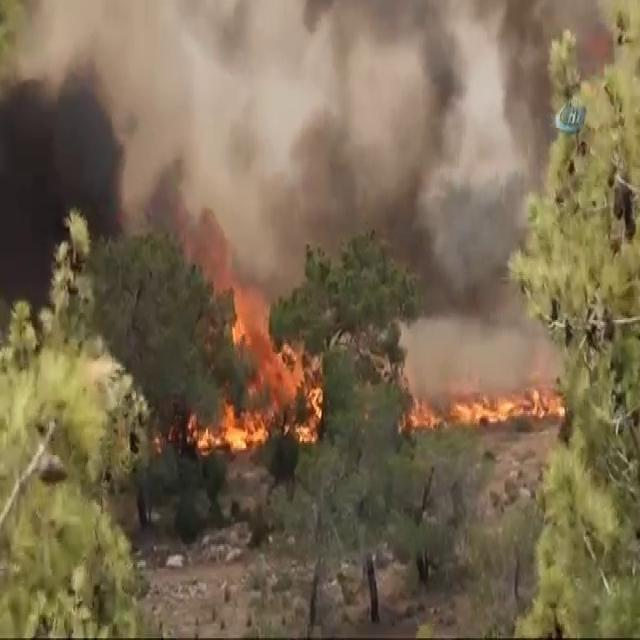Fire: (182, 243, 316, 397), (404, 388, 566, 433), (261, 370, 329, 456), (188, 404, 267, 454)
Smoke: (74, 24, 528, 222), (478, 0, 604, 139)
